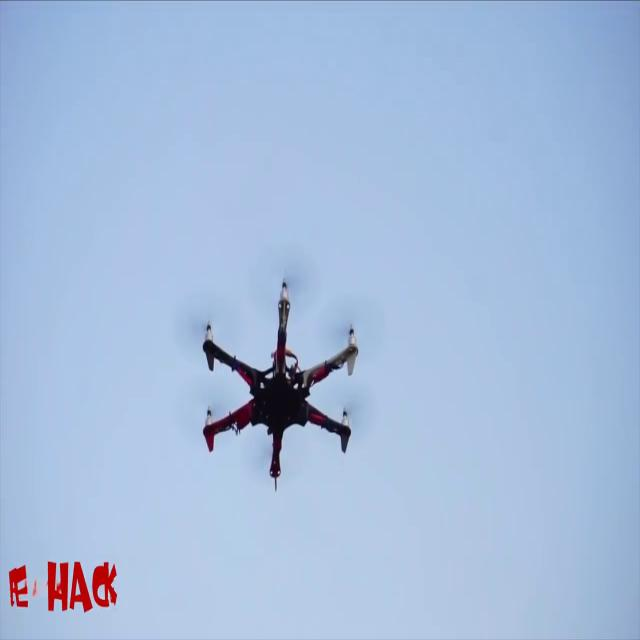drone: (169, 281, 384, 495)
